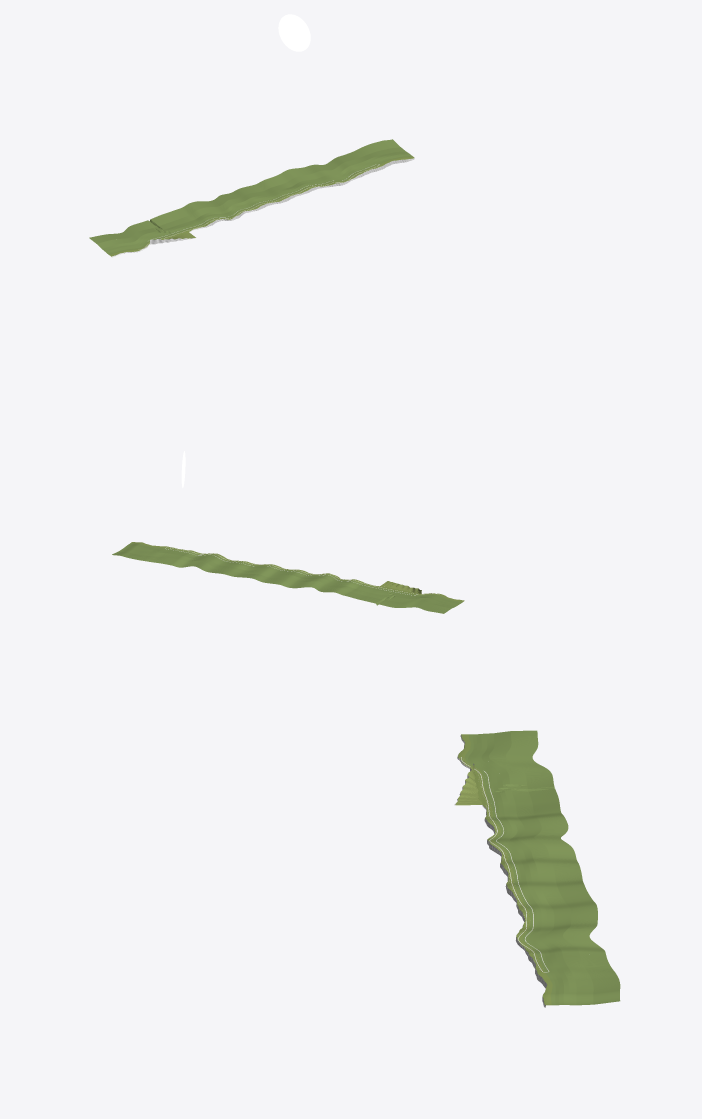
File: sevensisters.glb
3 views of the same model, one above another, from view 1: azimuth 30°, elevation 25°; view 2: azimuth 150°, elevation 25°; view 3: azimuth 270°, elevation 25° (orthographic). The views are drawn at different scales.
Parts seen in each view (by area): view 1: DownsTurf_027, Sun, DownsTurf_000; view 2: DownsTurf_027, DownsTurf_000; view 3: DownsTurf_027, DownsTurf_000, DownsTurf_052, DownsTurf_030, DownsTurf_042, DownsTurf_034, DownsTurf_039, DownsTurf_051, DownsTurf_045, DownsTurf_044, DownsTurf_036, DownsTurf_041.
Boxes of the visible parts, x1,y1,x2,y2 form: DownsTurf_027: (348,139,414,166); Sun: (278,14,310,51); DownsTurf_000: (89,234,144,256); DownsTurf_027: (112,542,171,563); DownsTurf_000: (427,593,464,613); DownsTurf_027: (537,960,620,1005); DownsTurf_000: (458,730,538,762); DownsTurf_052: (476,747,548,775); DownsTurf_030: (529,933,601,952); DownsTurf_042: (500,836,572,855); DownsTurf_034: (529,904,597,920); DownsTurf_039: (512,865,581,879); DownsTurf_051: (483,769,553,783); DownsTurf_045: (495,813,567,830); DownsTurf_044: (495,824,568,839); DownsTurf_036: (520,886,588,904); DownsTurf_041: (507,848,576,862).
Bounding box in the file's own units: 13320 × 3294 × 8336.
